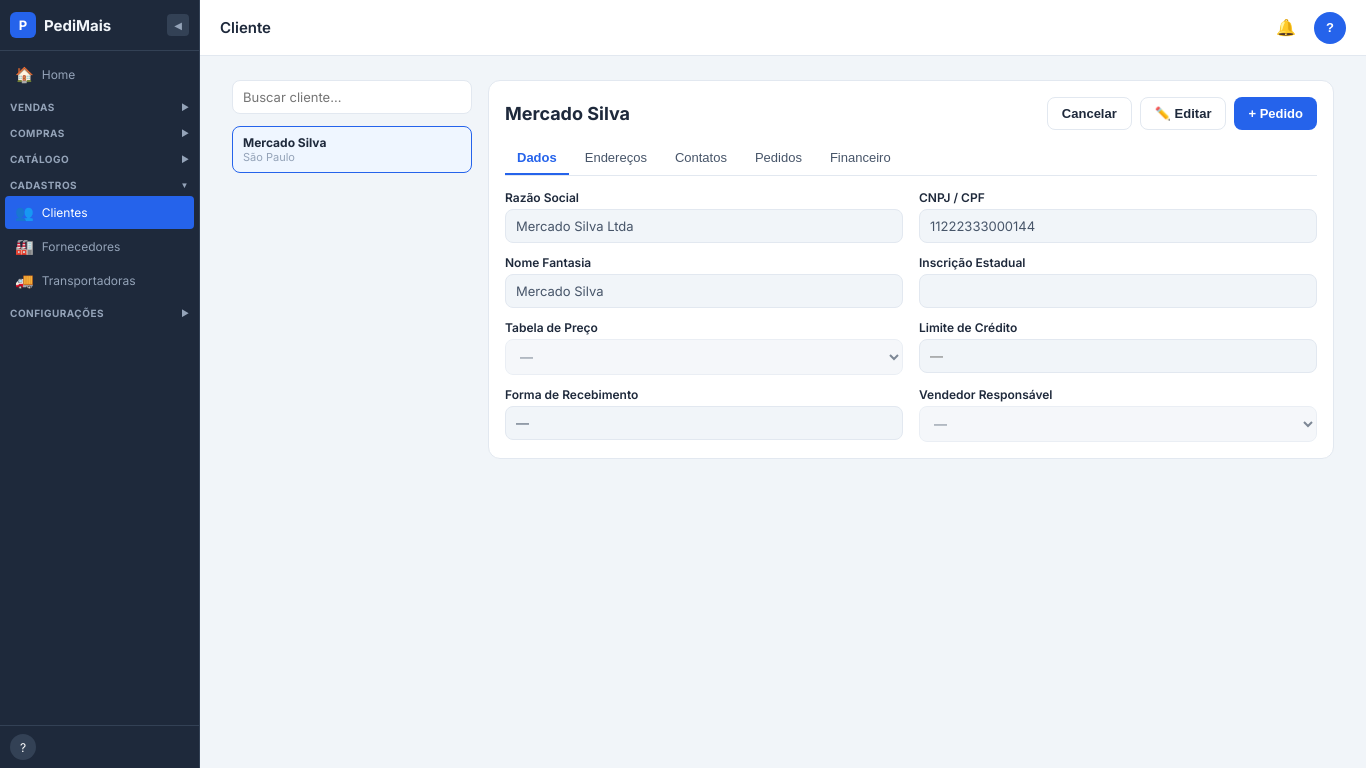
Test: ClienteDetailView › shows an empty state on the Pedidos tab
Click the button with class "tab" showing "Pedidos" at point(778, 158), box x1=743 y1=142 x2=814 y2=175
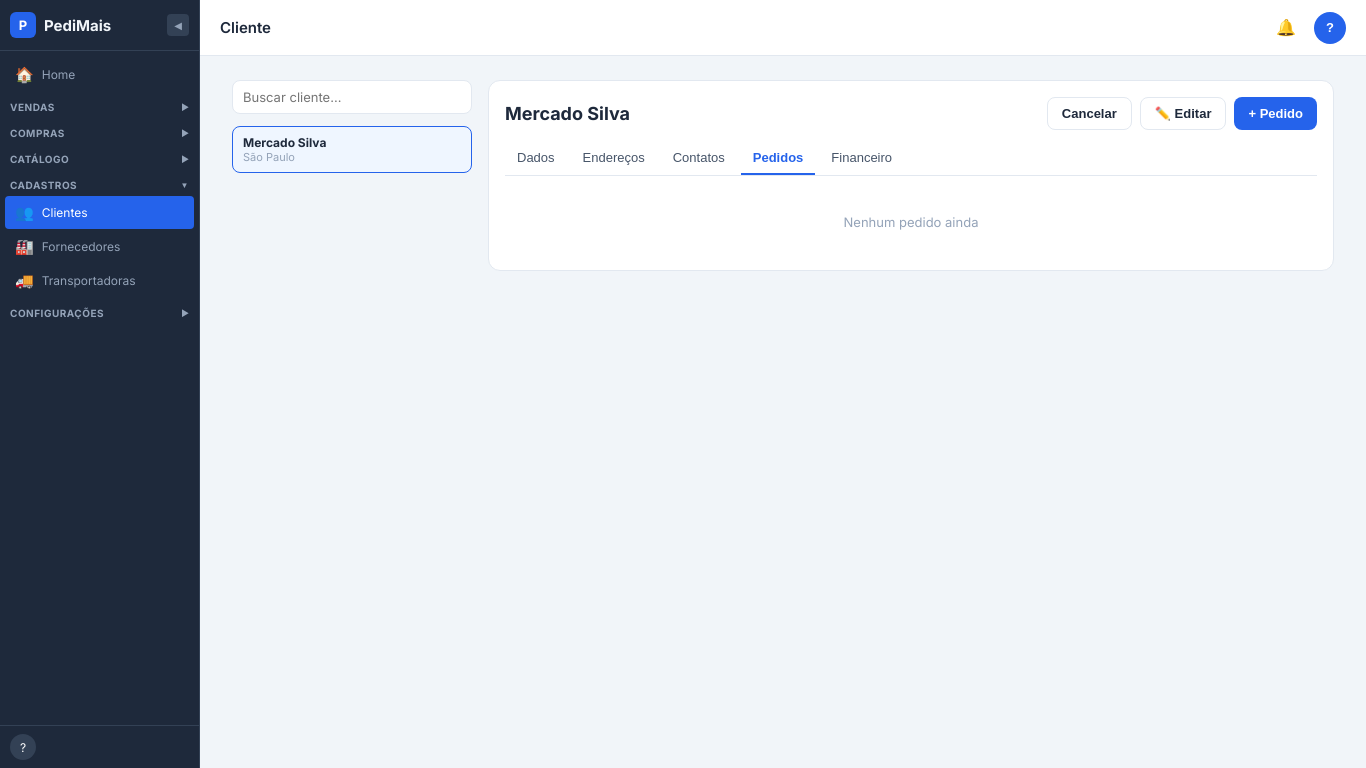
Expected: the text "Nenhum pedido ainda" is shown, x1=844 y1=214 x2=978 y2=230
